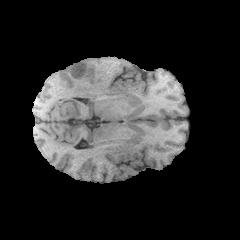glioma: (60, 61, 107, 102)
